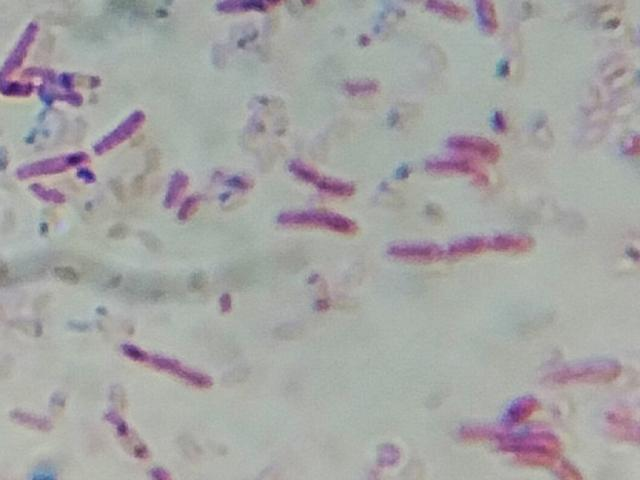E. coli: (123, 336, 214, 393), (388, 233, 537, 265), (499, 433, 576, 473), (93, 109, 148, 162), (272, 203, 357, 237), (282, 153, 354, 191), (31, 62, 108, 89), (2, 20, 47, 64), (8, 80, 79, 106), (422, 153, 478, 181), (493, 385, 533, 424), (22, 152, 89, 175), (473, 0, 511, 37), (452, 127, 493, 157), (32, 186, 67, 206), (168, 165, 185, 205), (179, 193, 195, 229)
